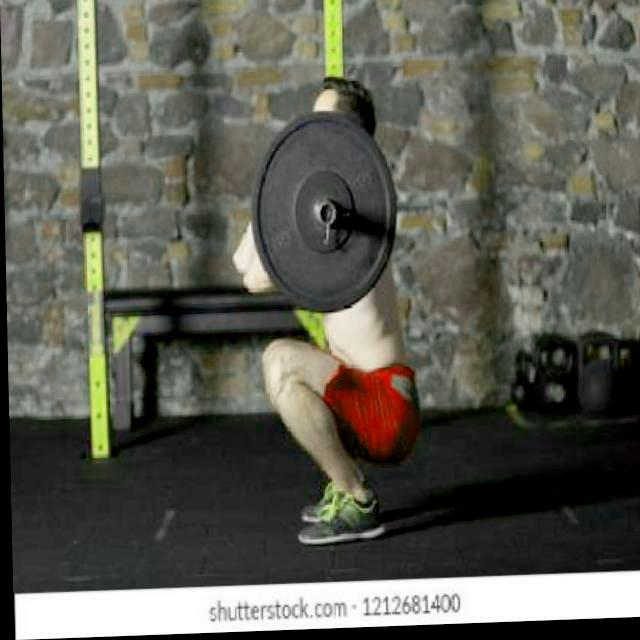barbell: (243, 108, 405, 325)
